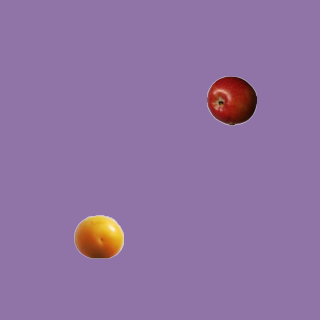Apple Braeburn: (206, 75, 256, 125)
Cherry Wax Yellow: (73, 211, 123, 261)
